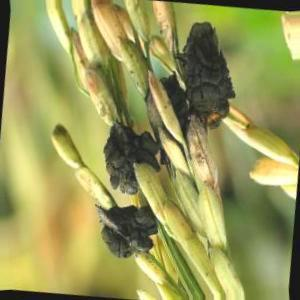Leaf_Scald: (182, 20, 231, 128), (96, 205, 156, 260), (106, 125, 143, 193)
